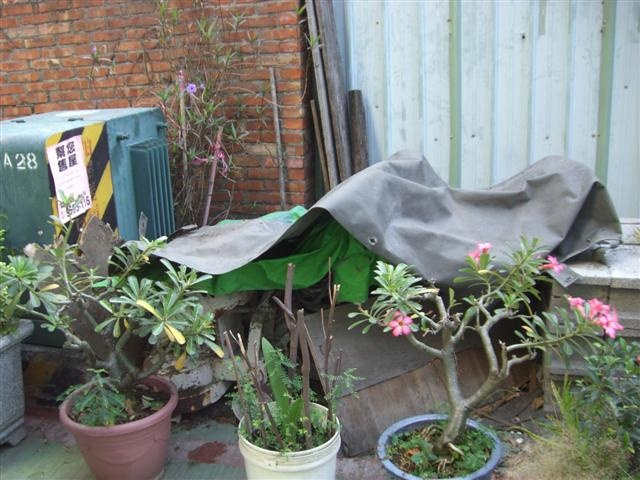bucket: (238, 398, 342, 480)
plastic_bag: (145, 149, 625, 306)
